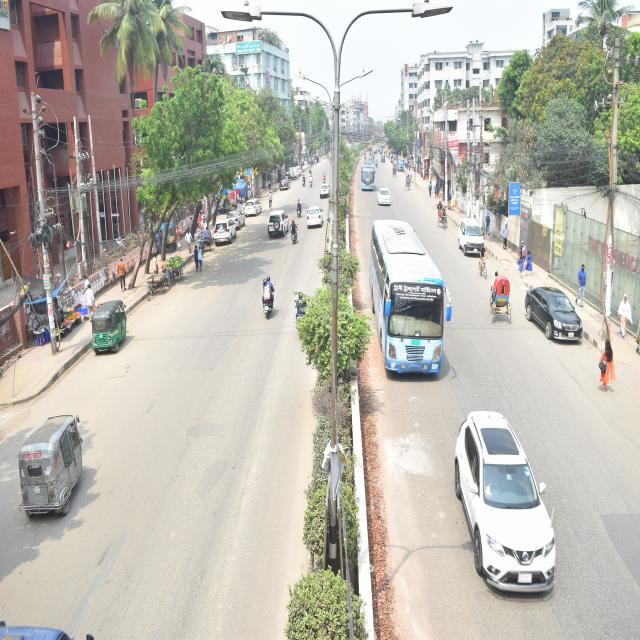bus: (364, 217, 452, 376), (358, 155, 374, 194)
car: (439, 392, 559, 602), (522, 279, 592, 362), (453, 208, 491, 275), (212, 209, 236, 256), (302, 204, 323, 238), (267, 208, 286, 243), (374, 184, 392, 217), (229, 197, 244, 235), (243, 194, 260, 222), (317, 181, 334, 203), (276, 171, 289, 194)
motorbike: (292, 282, 312, 348), (256, 264, 277, 319), (288, 218, 300, 252), (292, 197, 304, 216), (321, 168, 330, 191), (308, 170, 315, 195), (300, 166, 307, 189)
